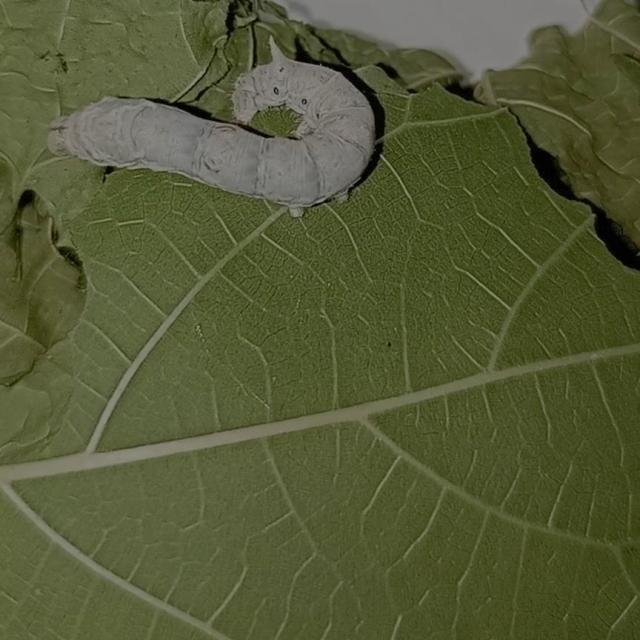Healthy: (46, 37, 386, 226)
